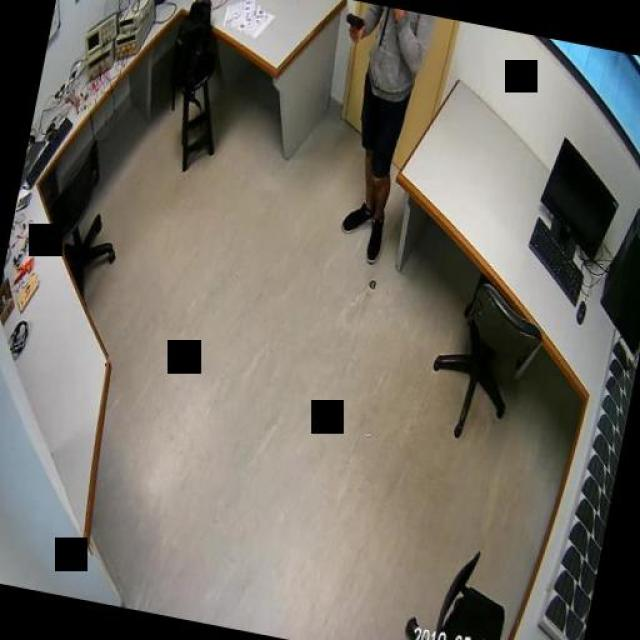gun: (342, 10, 366, 42)
